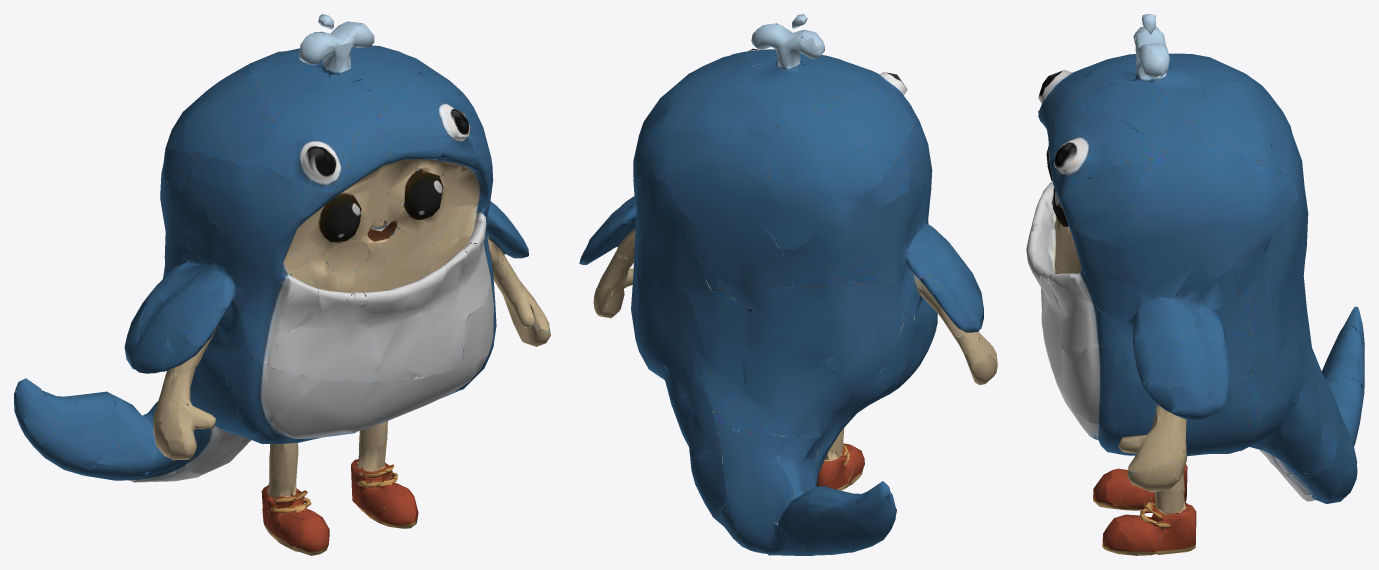
File: whale-buddy.glb
3 renders of one model, left to right at view 1: azimuth 30°, elevation 25°; view 2: azimuth 150°, elevation 25°; view 3: azimuth 270°, elevation 25°, orthographic. The views are drawn at different scales.
Parts seen in each view (by area): view 1: Mesh_0; view 2: Mesh_0; view 3: Mesh_0.
Part boxes in pixels (x1,y1,x2,y2): Mesh_0: [14, 14, 550, 555]; Mesh_0: [579, 14, 997, 555]; Mesh_0: [1026, 14, 1364, 555].
Size of the model in its own units: 1.65 by 1.9 by 1.15.
Materials: 1 (1 with a texture image).
